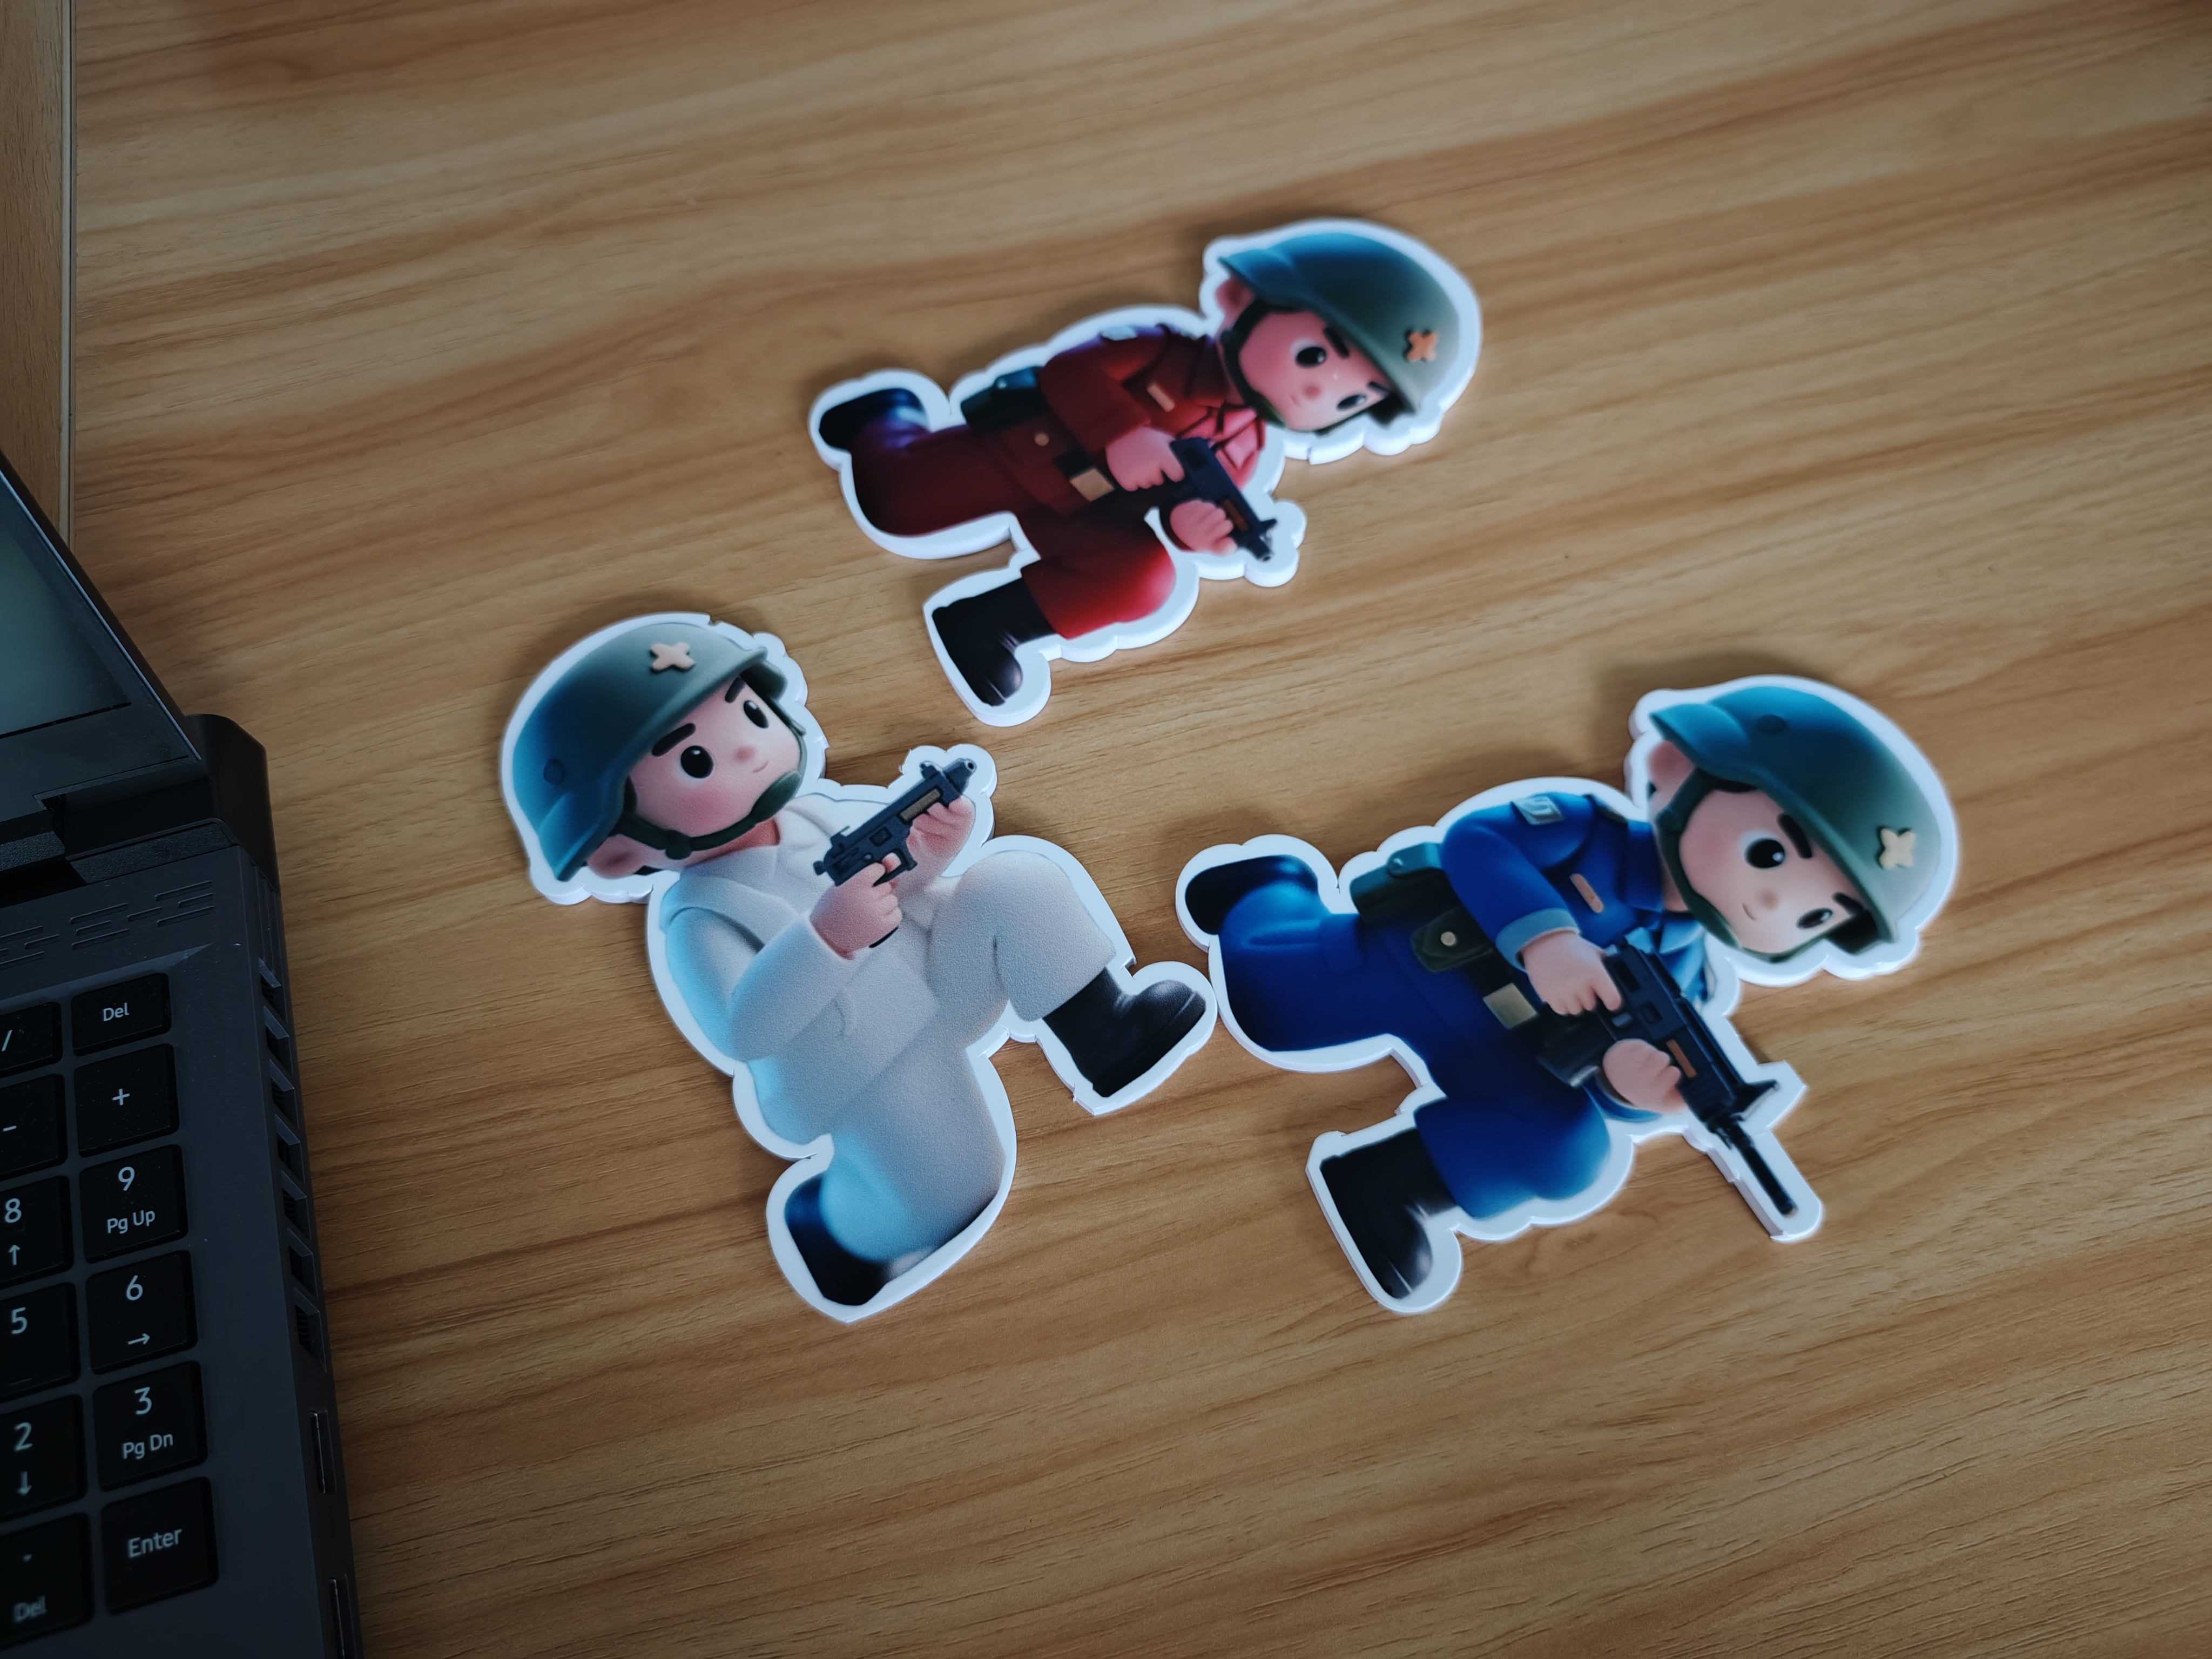enemy1: (808, 321, 1352, 730)
enemy2: (1170, 779, 1775, 1366)
hostage: (604, 843, 1197, 1352)
